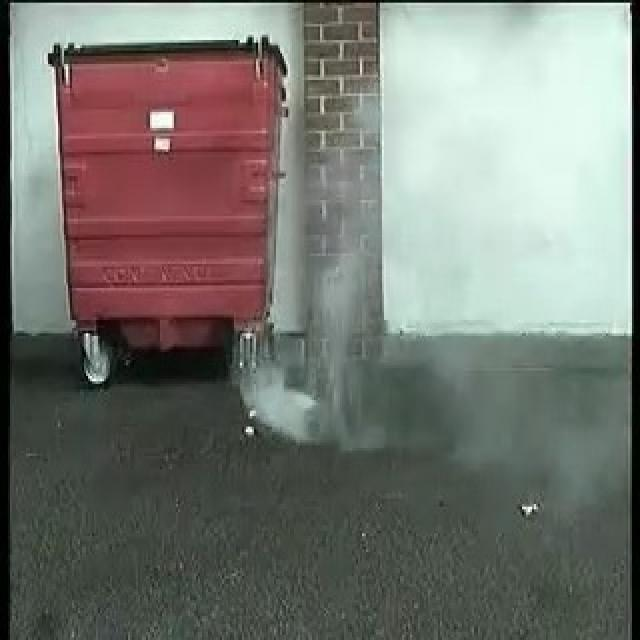smoke: (241, 276, 401, 438)
